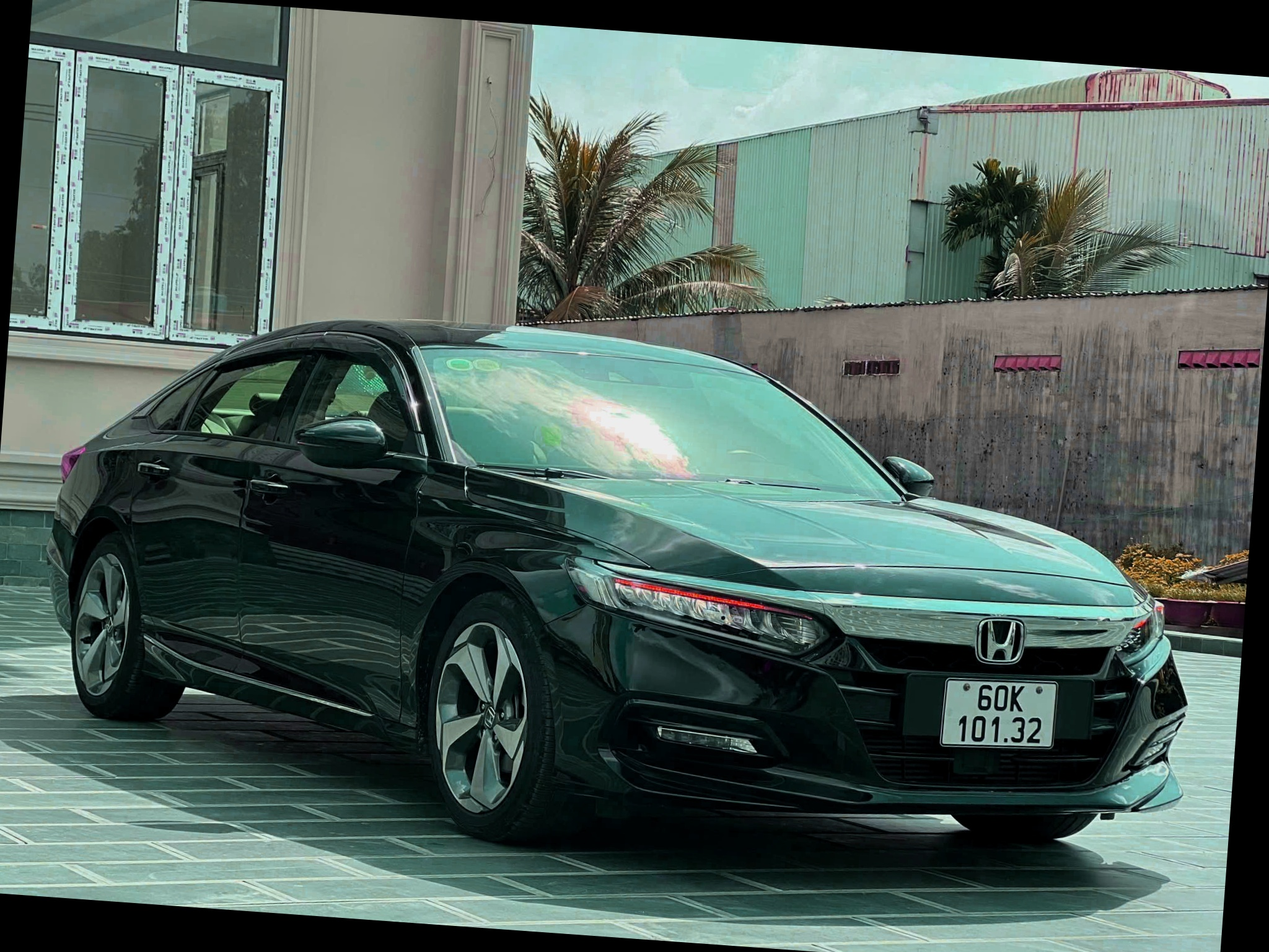Bien-so: (999, 693, 1123, 785)
